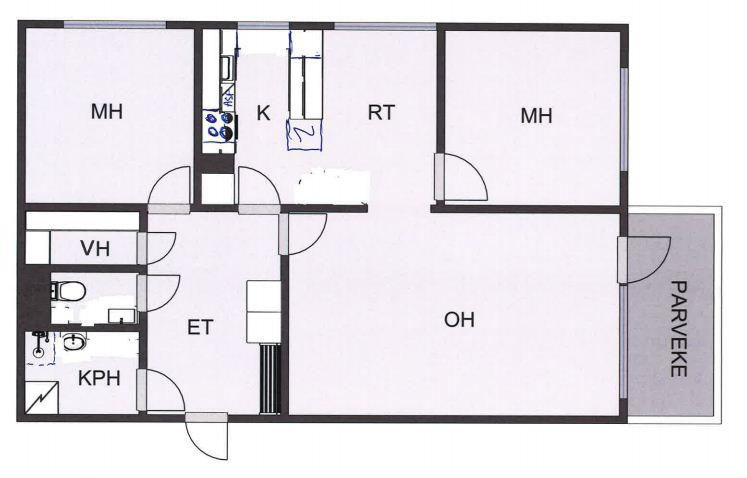bathroom: (51, 270, 137, 323)
door: (614, 234, 671, 287), (433, 152, 493, 202), (272, 212, 331, 257), (185, 409, 233, 463), (134, 367, 187, 415), (145, 165, 194, 214), (236, 164, 283, 211), (136, 273, 183, 314), (135, 232, 180, 268)
perimeter: (16, 19, 629, 424)
window: (59, 17, 174, 34), (616, 63, 632, 176), (328, 20, 441, 35), (617, 285, 631, 405), (233, 17, 295, 33)
